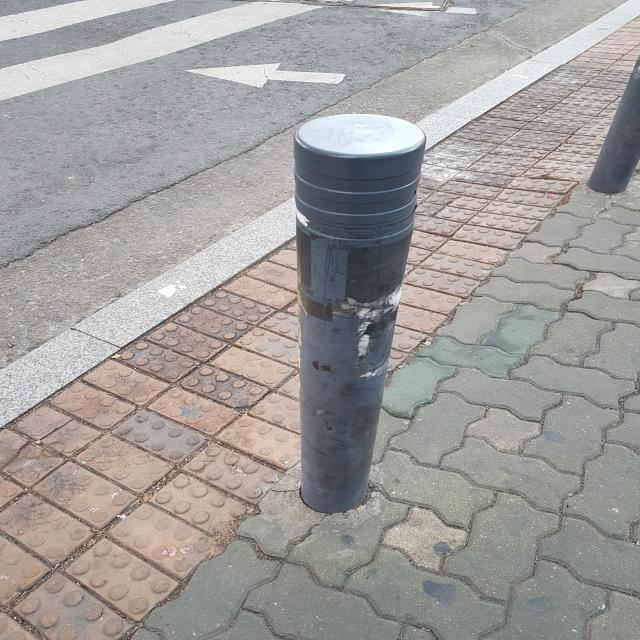pole: (290, 110, 422, 516)
